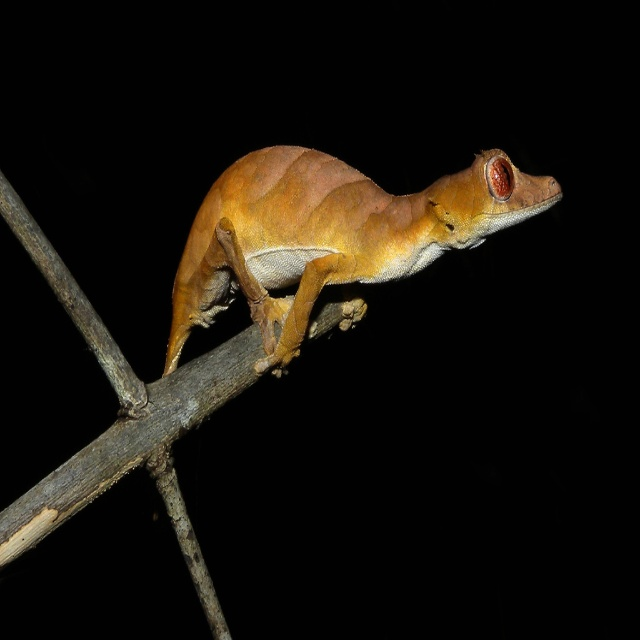Lizard: (161, 146, 559, 373)
